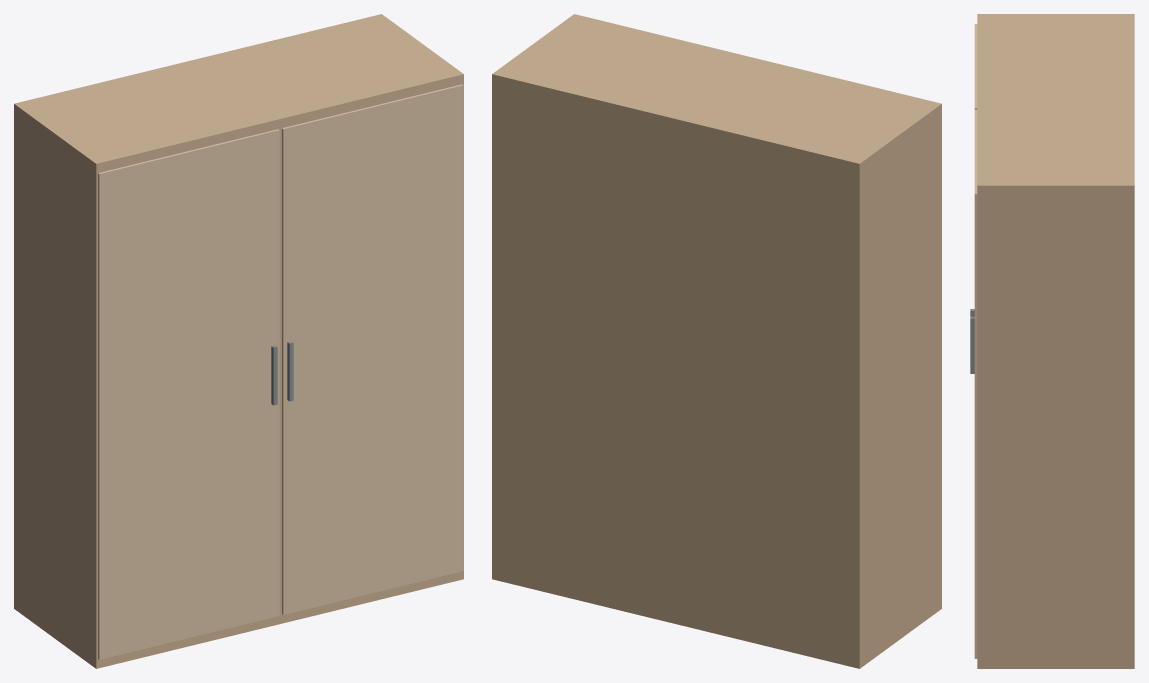
Rendered from wardrobe.glb.
3 views of the same model, side by side, from view 1: azimuth 30°, elevation 25°; view 2: azimuth 150°, elevation 25°; view 3: azimuth 270°, elevation 25° (orthographic). The views are drawn at different scales.
Parts seen in each view (by area): view 1: Wardrobe; view 2: Wardrobe; view 3: Wardrobe.
Boxes of the visible parts, <box> form: Wardrobe: <box>14,14,463,668</box>; Wardrobe: <box>492,14,941,668</box>; Wardrobe: <box>970,14,1134,668</box>.
Bounding box in the file's own units: 1.6 × 2.1 × 0.647.
